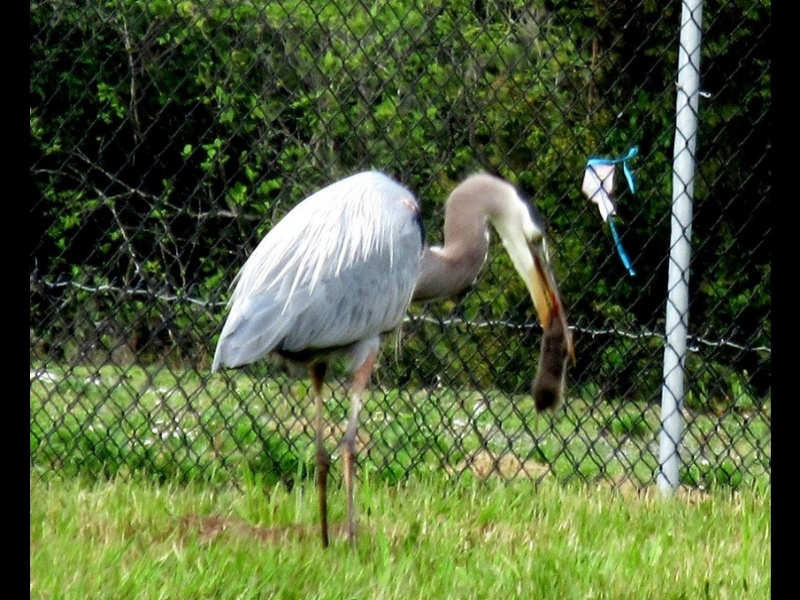heron: (209, 167, 573, 561)
